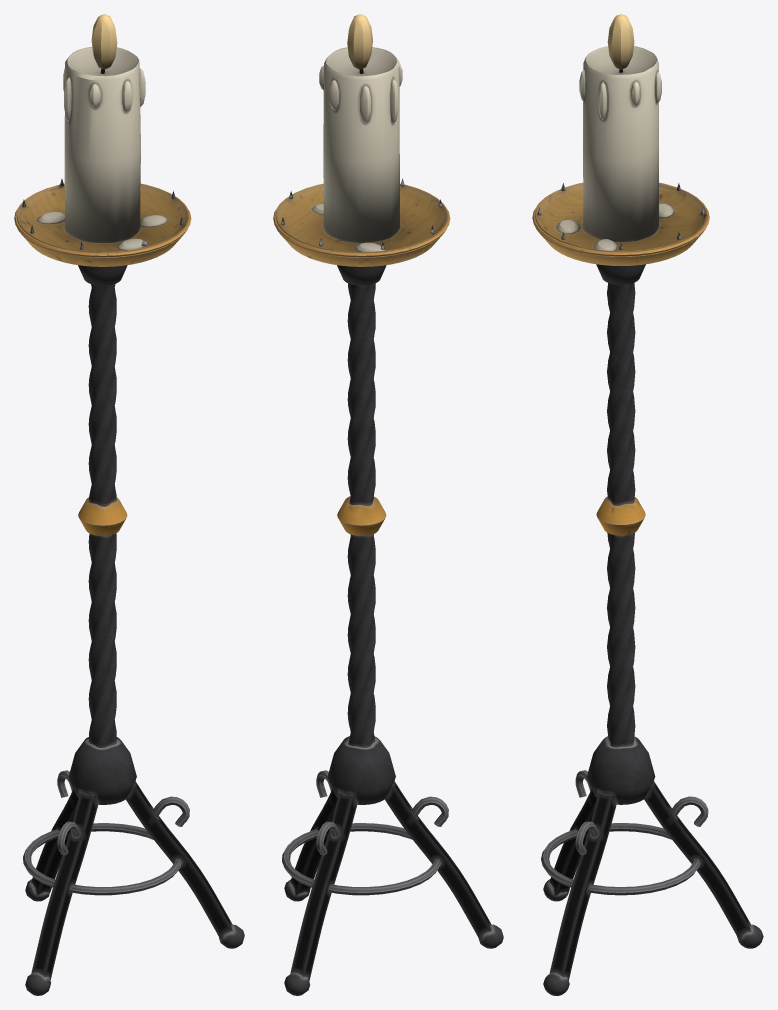
The model's file is PricketStand.fbx.
3 views of the same model, side by side, from view 1: azimuth 30°, elevation 25°; view 2: azimuth 150°, elevation 25°; view 3: azimuth 270°, elevation 25° (orthographic).
Visible parts, largest first — view 1: PricketStand_Main, PricketStand_Glow; view 2: PricketStand_Main, PricketStand_Glow; view 3: PricketStand_Main, PricketStand_Glow.
Part boxes in pixels (x1=…): PricketStand_Main: x1=14, y1=47, x2=244, y2=995; PricketStand_Glow: x1=91, y1=14, x2=117, y2=69; PricketStand_Main: x1=273, y1=47, x2=503, y2=995; PricketStand_Glow: x1=347, y1=14, x2=372, y2=69; PricketStand_Main: x1=532, y1=46, x2=763, y2=995; PricketStand_Glow: x1=607, y1=14, x2=634, y2=69.
Size of the model in its own units: 131 by 542 by 122.
